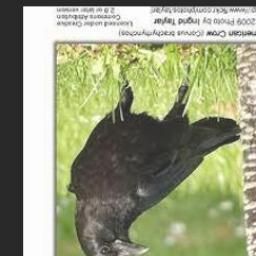Crow: (66, 44, 243, 256)
